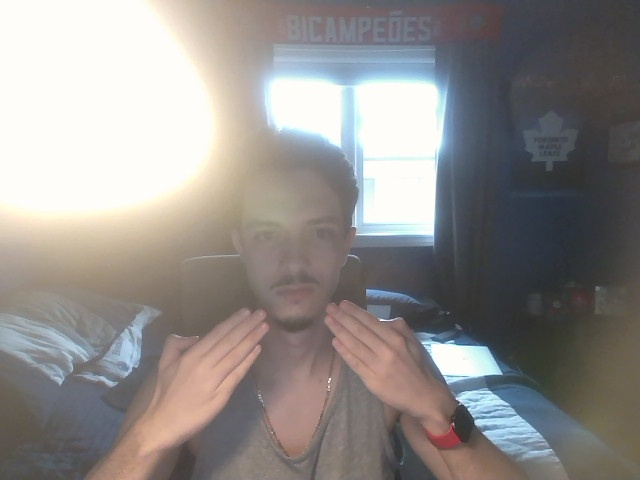ThankYou: (135, 300, 449, 443)
